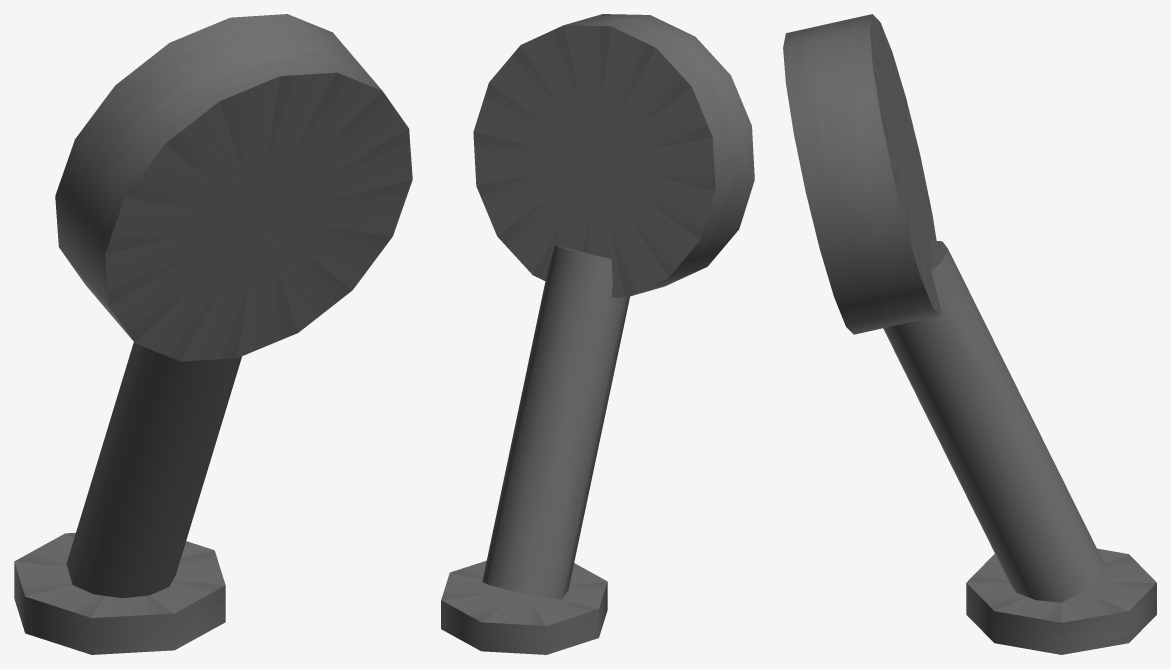
The model's file is mastarmcurve_8x2_c5_down.obj.
3 views of the same model, side by side, from view 1: azimuth 30°, elevation 25°; view 2: azimuth 150°, elevation 25°; view 3: azimuth 270°, elevation 25° (orthographic). The views are drawn at different scales.
Parts seen in each view (by area): view 1: mastarm_8x2_c5_down; view 2: mastarm_8x2_c5_down; view 3: mastarm_8x2_c5_down.
Boxes of the visible parts, x1=… form: mastarm_8x2_c5_down: x1=14, y1=14, x2=412, y2=654; mastarm_8x2_c5_down: x1=441, y1=14, x2=754, y2=654; mastarm_8x2_c5_down: x1=783, y1=14, x2=1156, y2=654.
Bounding box in the file's own units: 0.6492 × 1.36 × 0.7849.
